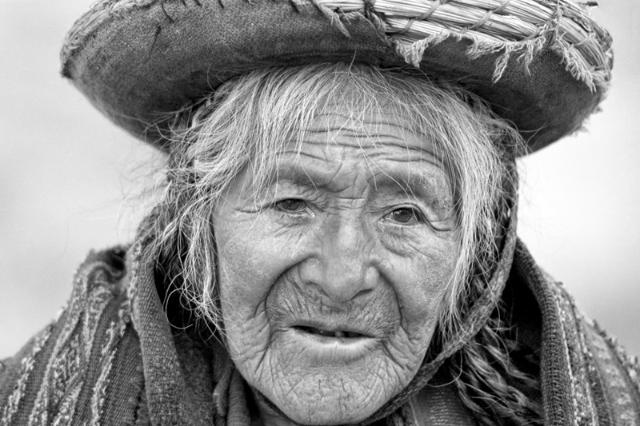chin: (272, 372, 302, 400), (360, 374, 382, 402)
crows_feet: (430, 215, 452, 243), (234, 198, 262, 220)
forehead: (385, 141, 437, 173), (332, 132, 378, 160), (283, 143, 327, 165), (309, 118, 357, 138)
frown_line: (336, 186, 364, 214)
gummy_smile: (375, 264, 409, 316), (266, 255, 302, 297)
sad_smile: (251, 329, 277, 368), (380, 343, 408, 375)
smoker_lines: (282, 293, 316, 319), (358, 304, 390, 329)
